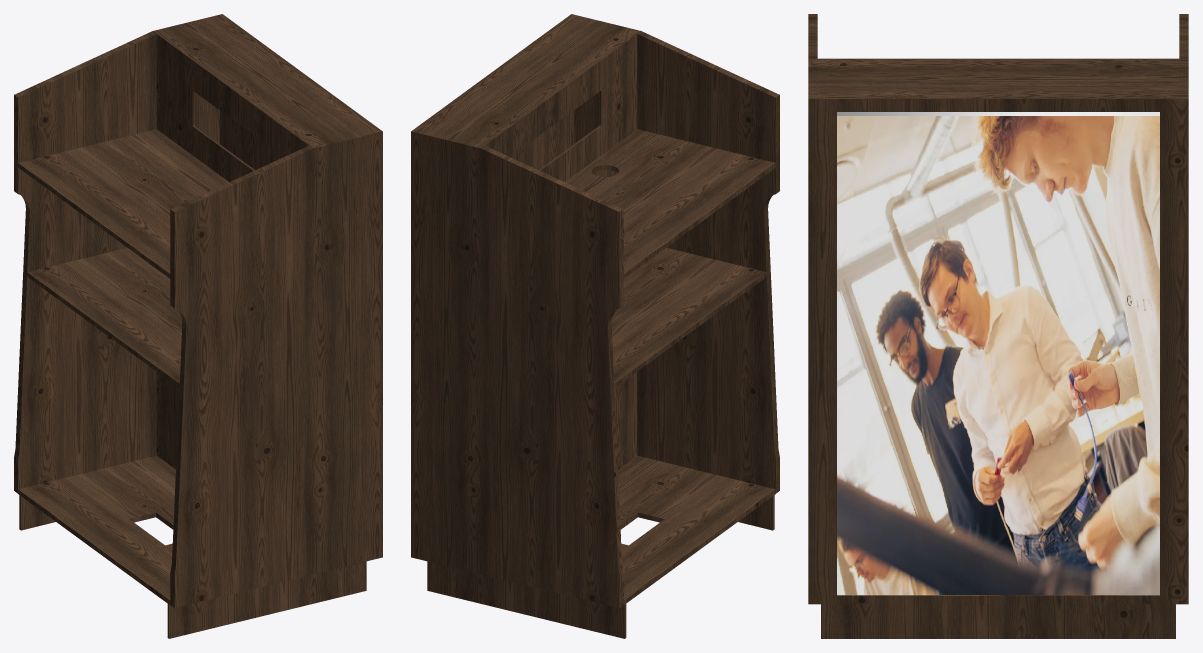
Rendered from StudyStand.glb.
The picture shows the model from 3 angles, left to right: view 1: azimuth 30°, elevation 25°; view 2: azimuth 150°, elevation 25°; view 3: azimuth 270°, elevation 25°; orthographic projection. The views are drawn at different scales.
Visible parts, largest first — view 1: mainPodium Board.001; view 2: mainPodium Board.001; view 3: mainPodium Board.001.
Boxes of the visible parts, x1,y1,x2,y2 form: mainPodium Board.001: [14, 14, 382, 638]; mainPodium Board.001: [411, 14, 779, 638]; mainPodium Board.001: [808, 14, 1188, 638].
Size of the model in its own units: 0.6193 by 1.27 by 0.8.
Materials: 14 (13 with a texture image).
